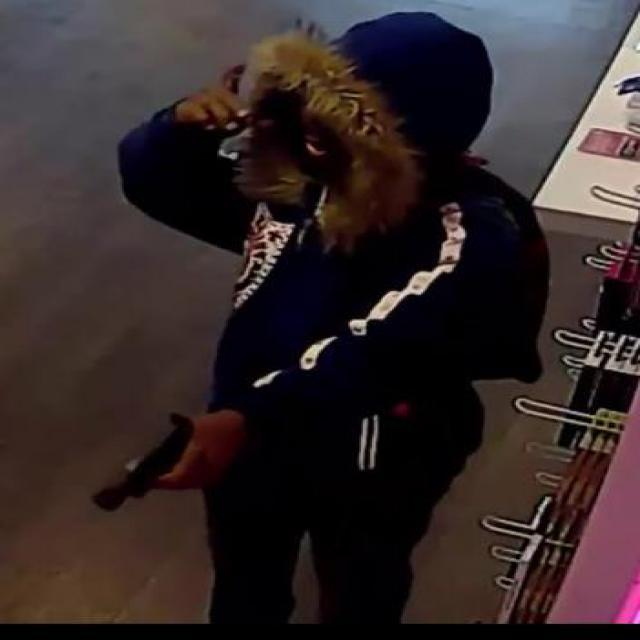Gun: (93, 410, 215, 510)
